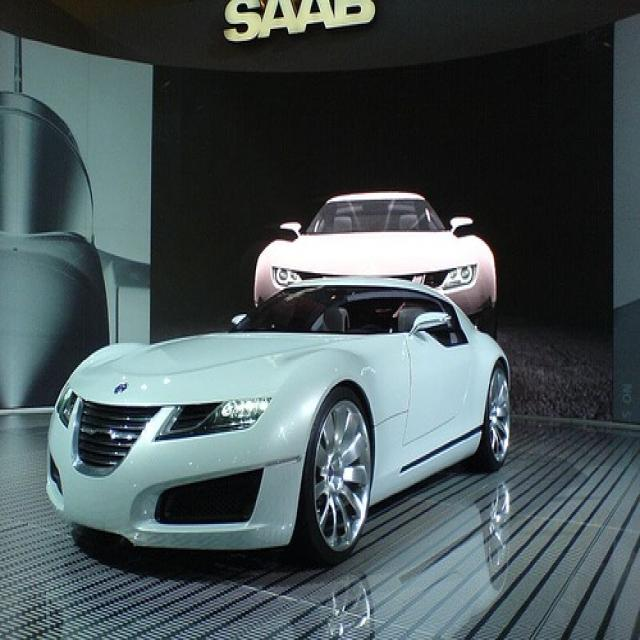car: (46, 278, 512, 567), (253, 188, 504, 324)
